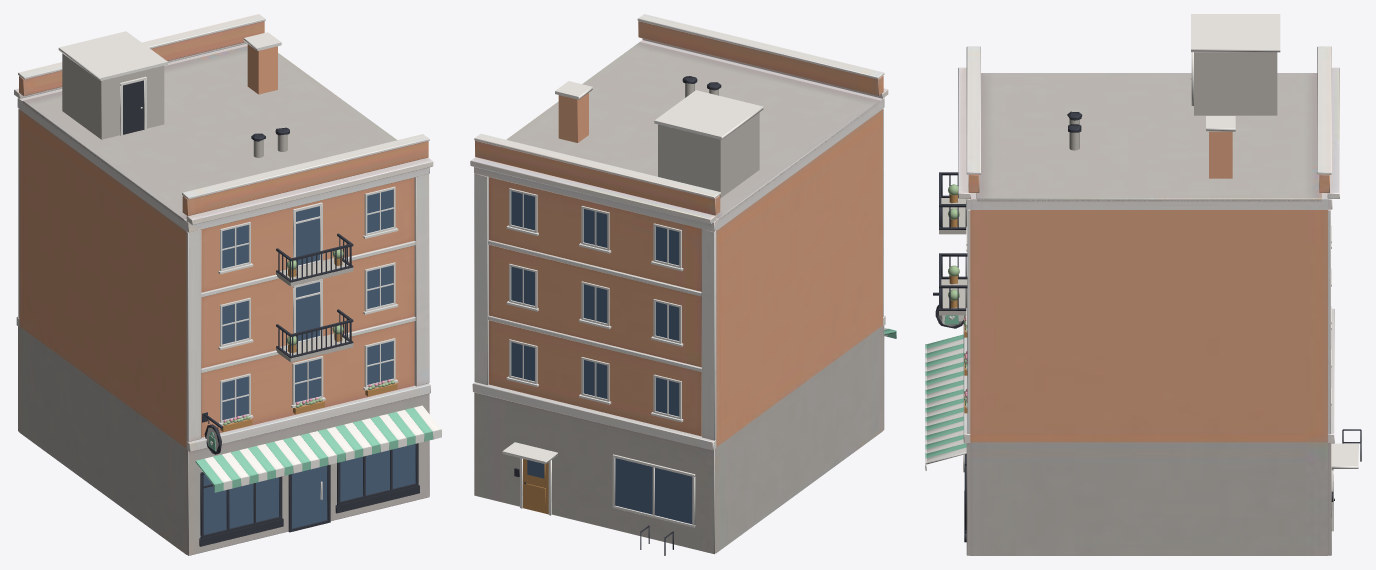
The model's file is city-block-filler-F6SMFN2R.glb.
The picture shows the model from 3 angles, left to right: view 1: azimuth 30°, elevation 25°; view 2: azimuth 150°, elevation 25°; view 3: azimuth 270°, elevation 25°; orthographic projection. The views are drawn at different scales.
Parts seen in each view (by area): view 1: city-block-filler_body, city-block-filler_details, city-block-filler_windows; view 2: city-block-filler_body, city-block-filler_details, city-block-filler_windows; view 3: city-block-filler_body, city-block-filler_details.
Boxes of the visible parts, box(x1,y1,x2,y2) form: city-block-filler_body: box(14, 14, 433, 555); city-block-filler_details: box(58, 31, 441, 546); city-block-filler_windows: box(218, 186, 398, 431); city-block-filler_body: box(470, 14, 888, 554); city-block-filler_details: box(502, 76, 896, 555); city-block-filler_windows: box(506, 188, 683, 422); city-block-filler_body: box(958, 46, 1339, 555); city-block-filler_details: box(925, 14, 1361, 542).
Bounding box in the file's own units: 10 × 15.72 × 14.63.
Materials: 11 (1 with a texture image).
